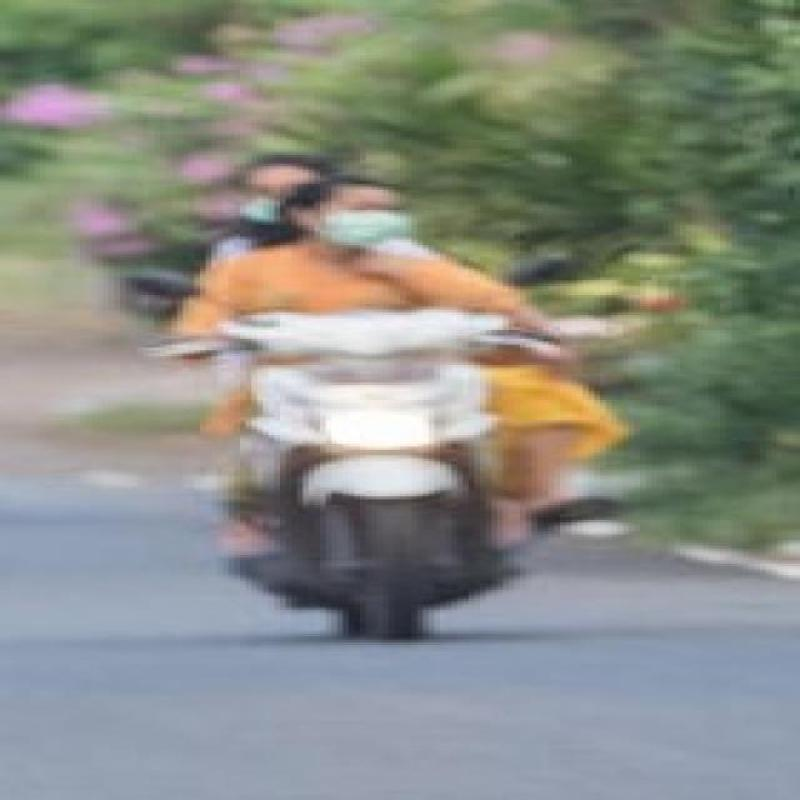nohelmet: (298, 175, 422, 264)
